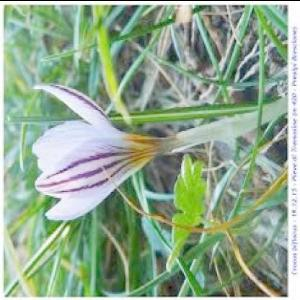Saffron: (32, 81, 164, 218)
